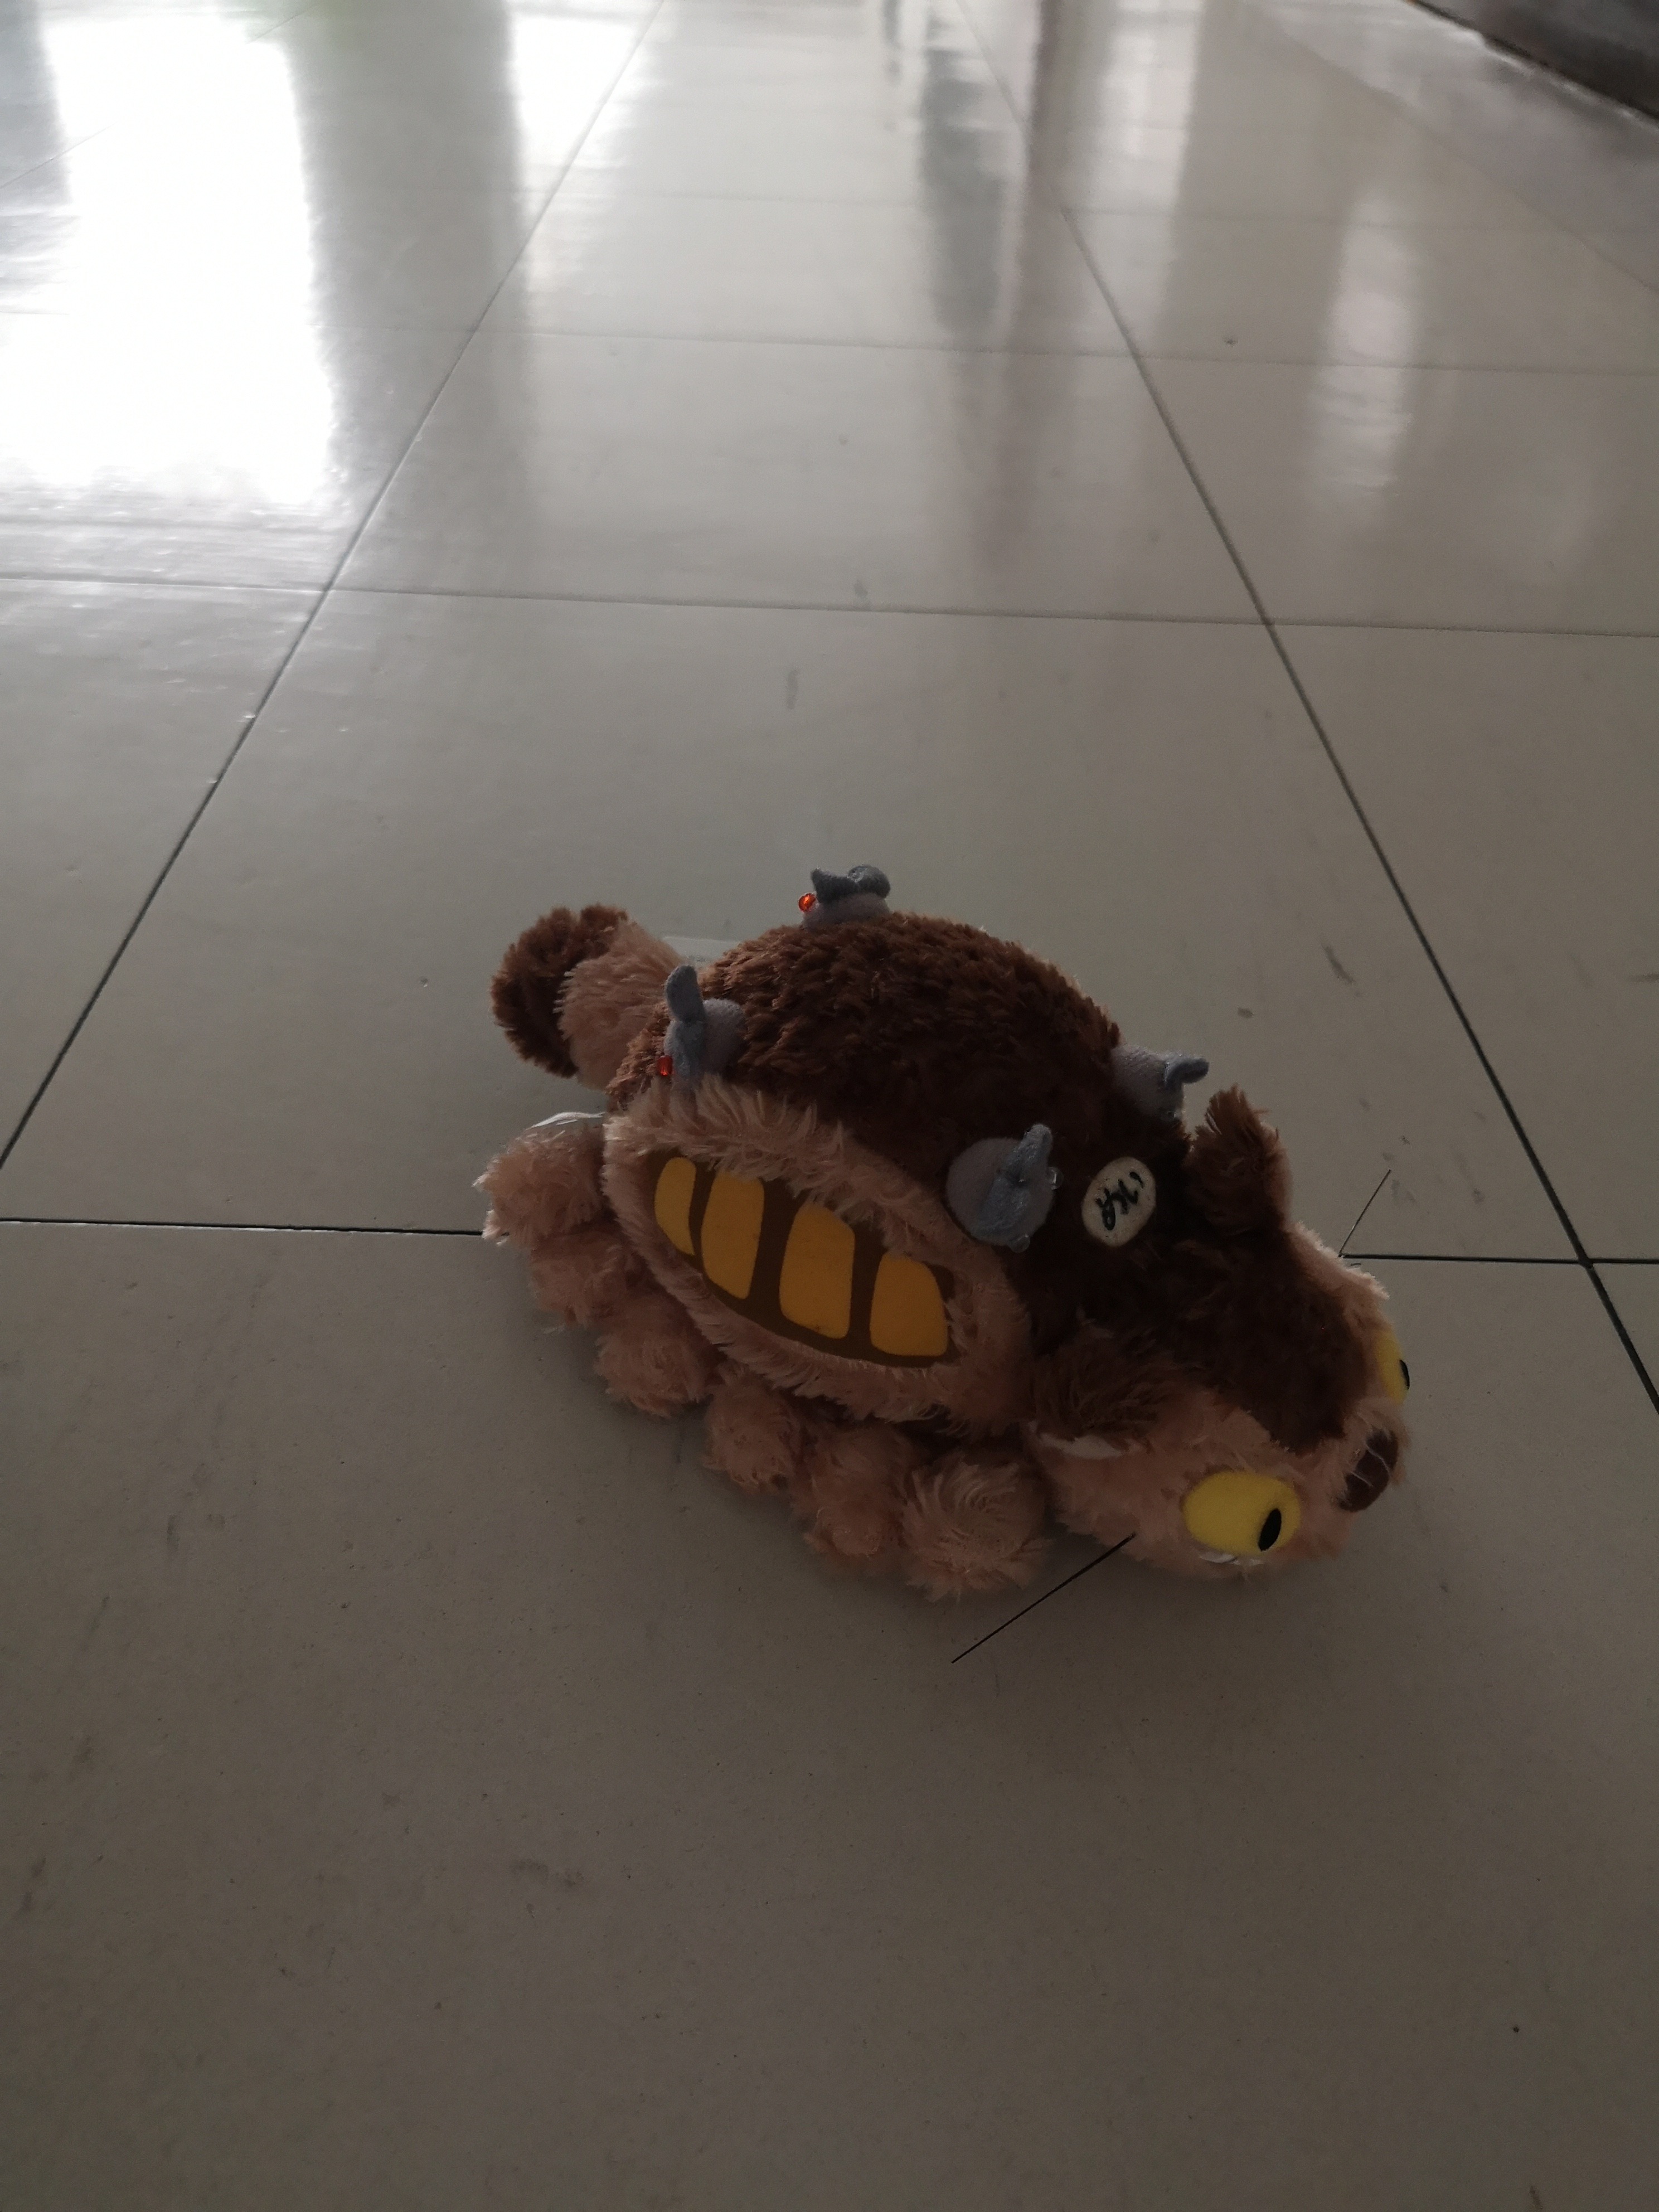nekobus: (472, 846, 1432, 1629)
